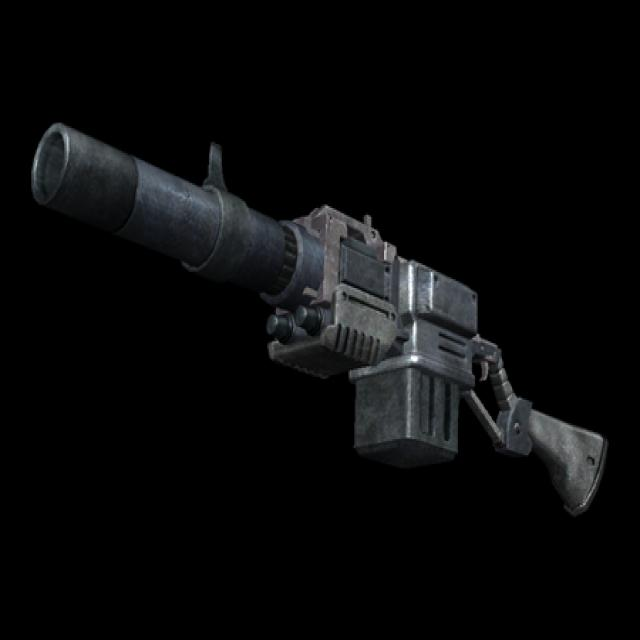bazooka: (1, 77, 638, 578)
